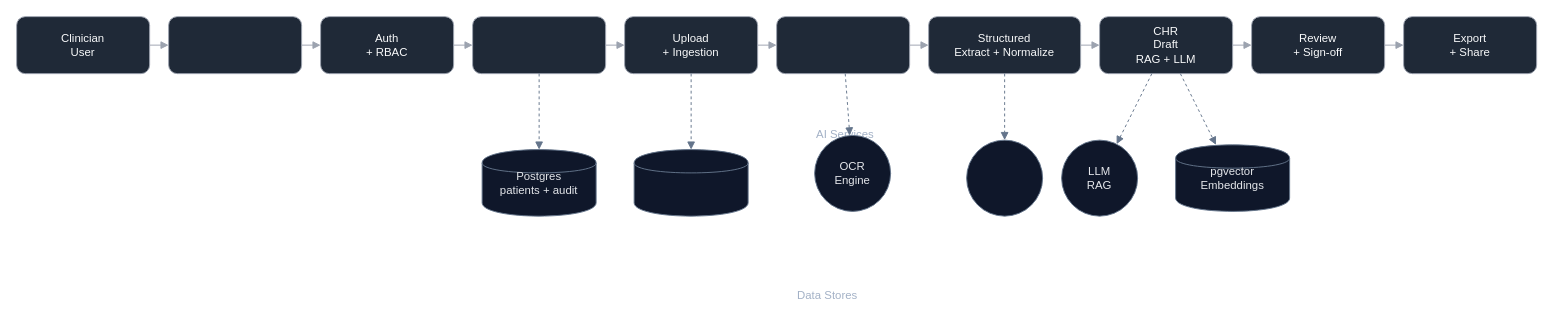
Image size: 1553x319. Some labels were removed from this diagram. The shapes that lost their labels are listed below. From the top down, each one's centre as x and y in pixels, then its label:
At pixel 235 45: "Web App UI".
At pixel 539 45: "API Backend".
At pixel 843 45: "Text Extraction PDF Parse + OCR".
At pixel 690 182: "Object Storage".
At pixel 1004 177: "NER Parsers".
